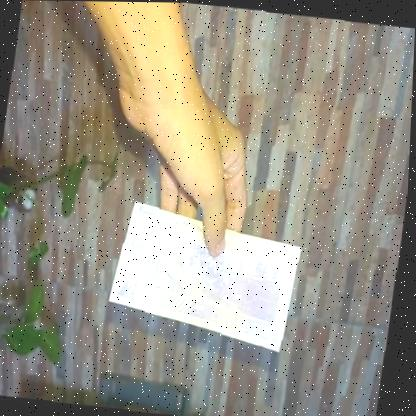two_hundred-back-vef: (106, 197, 309, 354)
